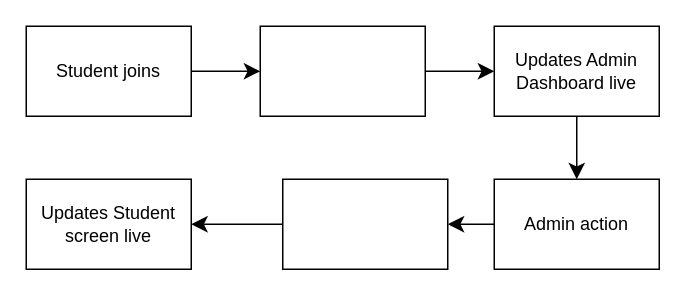
The diagram is 686 pixels wide and 296 high, and some of its shapes have lost their labels. Each missing label, with the centre of its shape:
Token stored in Firestore: pixel 342 70
Updates Firestore: pixel 364 223
